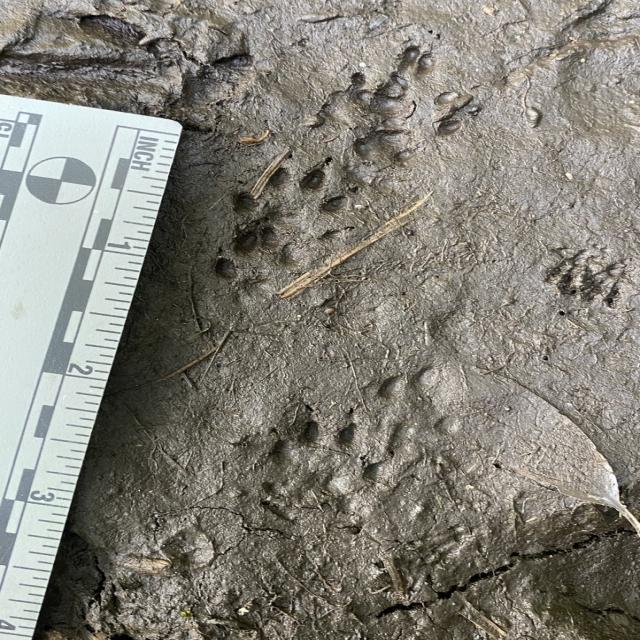mustelid: (227, 160, 360, 270), (267, 414, 382, 516)
